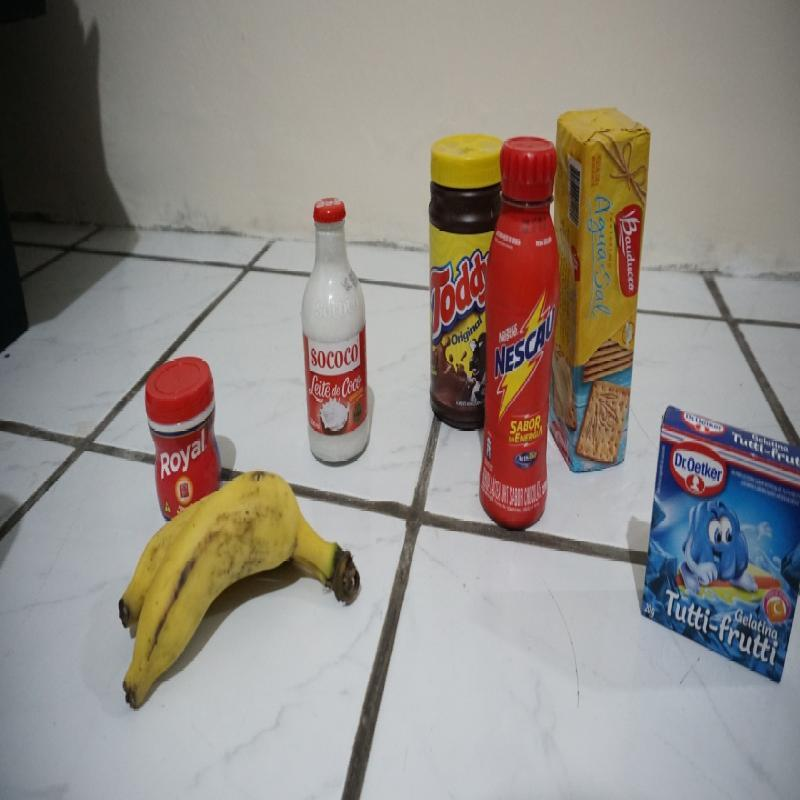Banana: (103, 499, 358, 712)
Chocolate Milk: (482, 139, 552, 535)
Chocolate Powder: (423, 120, 483, 430)
Coconut Milk: (304, 189, 368, 461)
Cracker: (555, 98, 638, 472)
Gelatine: (654, 400, 797, 714)
Yeast: (137, 355, 218, 495)
